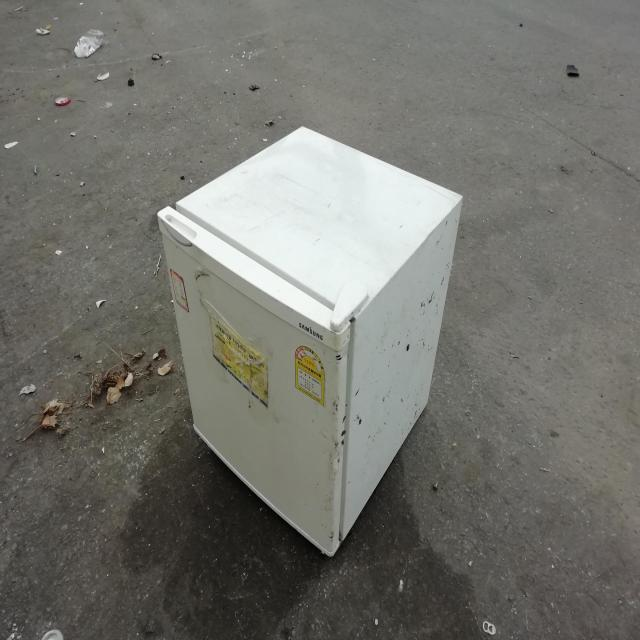refrigerator: (155, 122, 464, 560)
